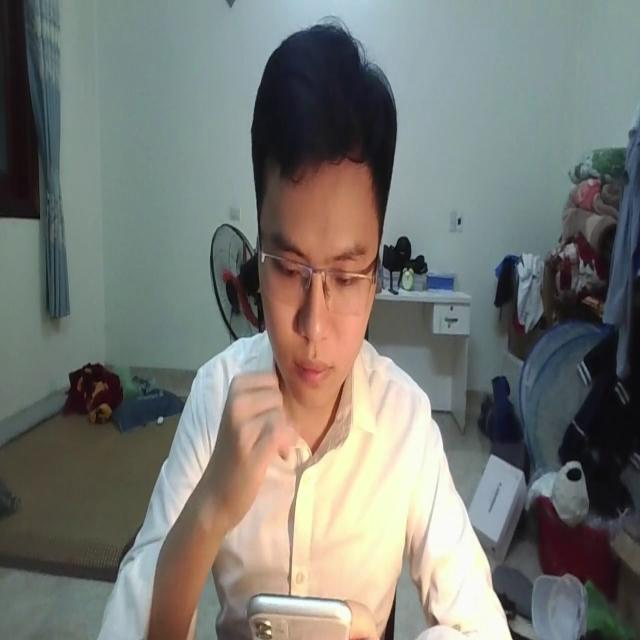phone: (247, 584, 358, 640)
student: (103, 18, 509, 640)
